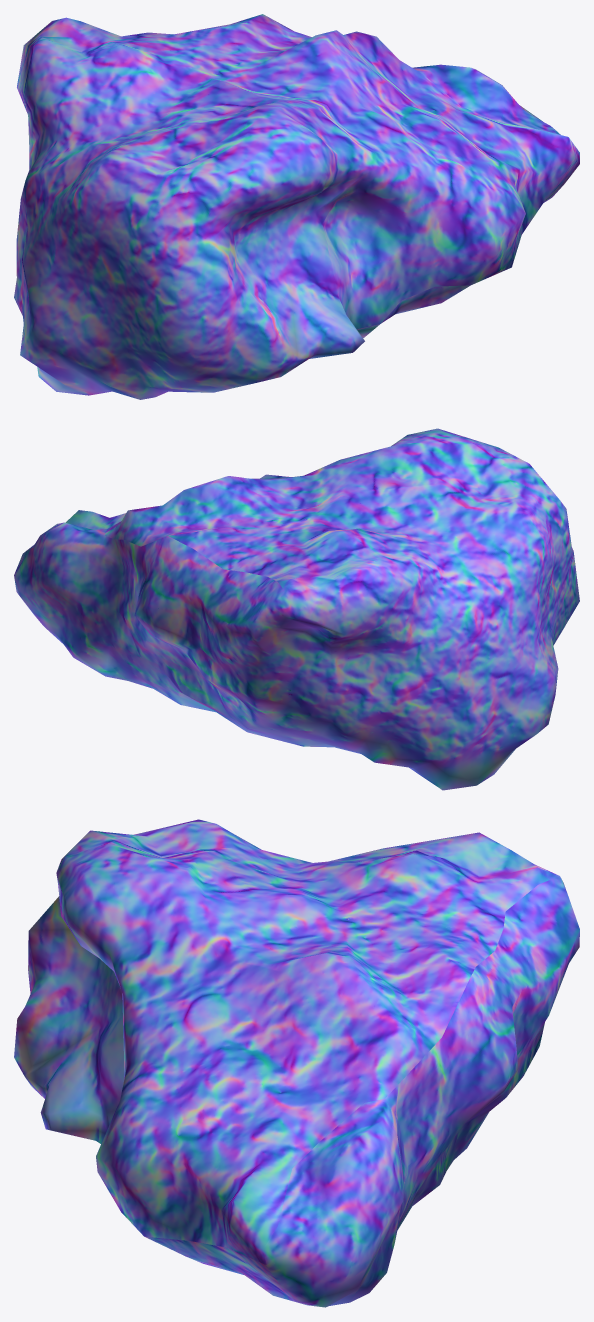
File: Rock00 Moss Variant.fbx
3 renders of one model, top to bottom at view 1: azimuth 30°, elevation 25°; view 2: azimuth 150°, elevation 25°; view 3: azimuth 270°, elevation 25°, orthographic. The views are drawn at different scales.
Visible parts, largest first — view 1: Rock00_LOD0; view 2: Rock00_LOD0; view 3: Rock00_LOD0.
Part boxes in pixels (<box>): Rock00_LOD0: <box>14,14,579,399</box>; Rock00_LOD0: <box>14,428,579,790</box>; Rock00_LOD0: <box>14,819,579,1307</box>.
Bounding box in the file's own units: 63.38 × 31.85 × 49.06.
